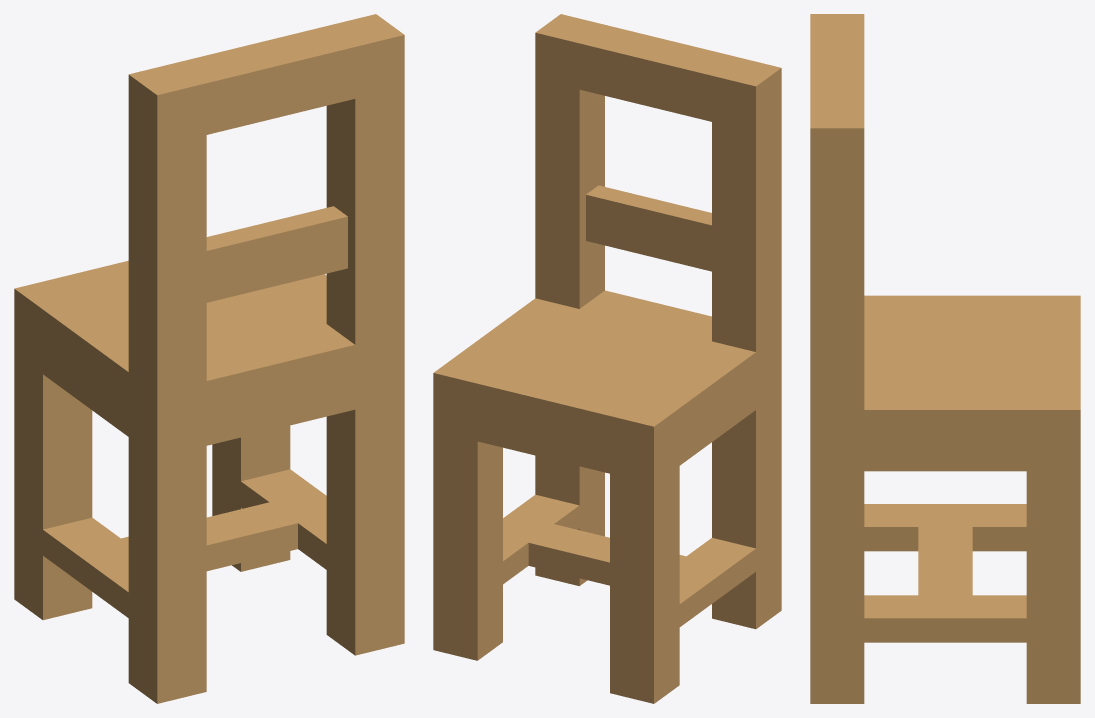
Rendered from chair.glb.
3 views of the same model, side by side, from view 1: azimuth 30°, elevation 25°; view 2: azimuth 150°, elevation 25°; view 3: azimuth 270°, elevation 25° (orthographic). The views are drawn at different scales.
Bounding box in the file's own units: 2 × 4.7 × 2.
